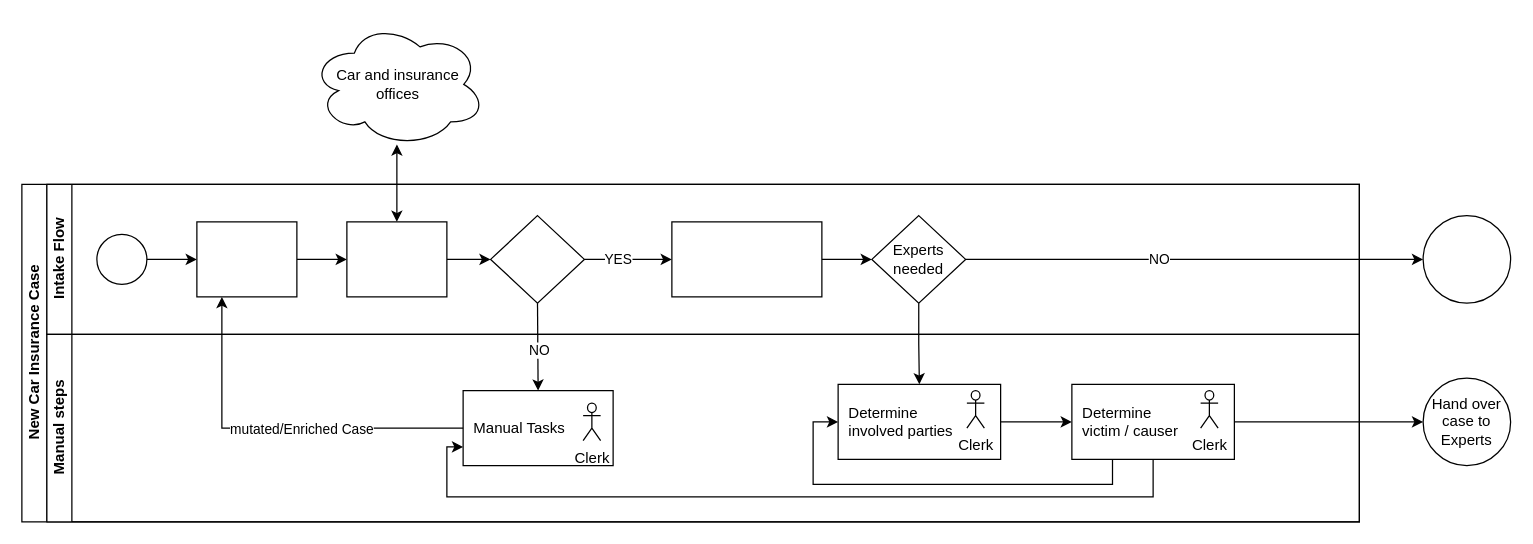
This 1533x544 diagram has some shape labels left out. Each missing label, with the centre of its shape:
"data complete" goes at point 536,258.
"Determine experts needed" goes at point 746,259.
"enrich data" goes at point 396,259.
"Execute payout flow" goes at point 1466,258.
"New case" goes at point 121,258.
"Validate" goes at point 246,259.
